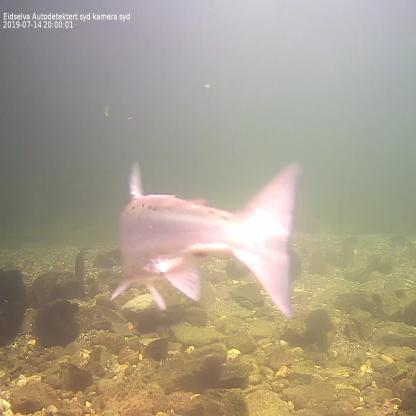salmon: (109, 157, 303, 320)
